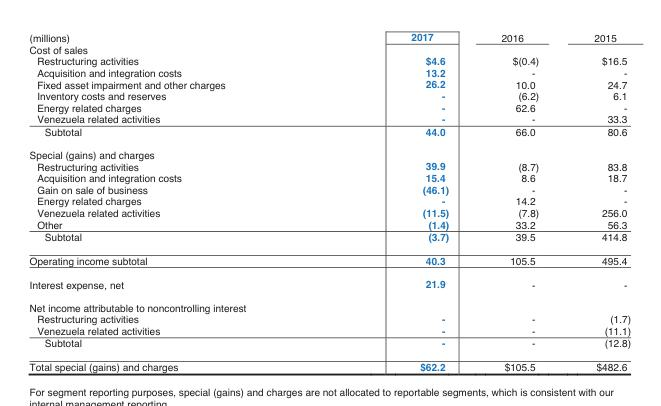table: (28, 28, 630, 375)
table column: (28, 28, 317, 375), (317, 28, 474, 375), (474, 28, 565, 375), (565, 28, 630, 375)
table column header: (28, 28, 630, 43)
table projected row header: (28, 143, 630, 160), (28, 296, 630, 313), (28, 43, 630, 55)
table row: (28, 248, 630, 272), (28, 272, 630, 296), (28, 354, 630, 375), (28, 125, 630, 143), (28, 230, 630, 248), (28, 336, 630, 354), (28, 143, 630, 160), (28, 296, 630, 313), (28, 28, 630, 43), (28, 43, 630, 55), (28, 66, 630, 78), (28, 89, 630, 101), (28, 101, 630, 113), (28, 113, 630, 125), (28, 171, 630, 183), (28, 183, 630, 195), (28, 206, 630, 218), (28, 218, 630, 230), (28, 324, 630, 336), (28, 55, 630, 66), (28, 78, 630, 89), (28, 160, 630, 171), (28, 195, 630, 206), (28, 313, 630, 324)
